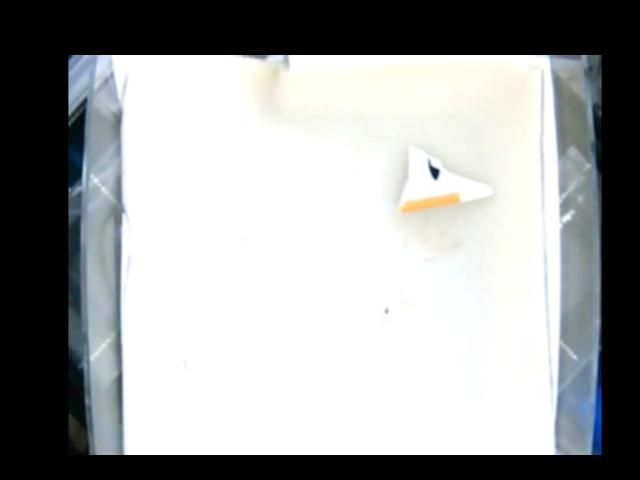China: (395, 145, 498, 210)
